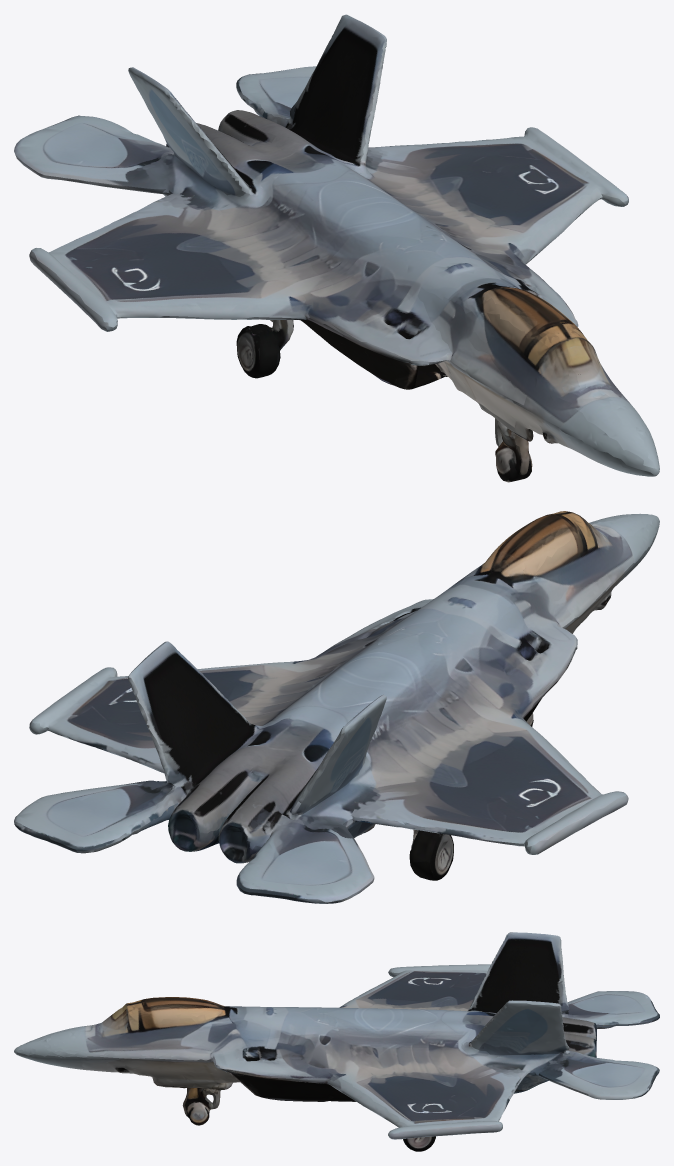
3 views of the same model, one above another, from view 1: azimuth 30°, elevation 25°; view 2: azimuth 150°, elevation 25°; view 3: azimuth 270°, elevation 25° (orthographic). The views are drawn at different scales.
Visible parts, largest first — view 1: textured_mesh; view 2: textured_mesh; view 3: textured_mesh.
Boxes of the visible parts, x1,y1,x2,y2 form: textured_mesh: (14,14,659,482); textured_mesh: (14,511,659,903); textured_mesh: (14,932,659,1151).
Bounding box in the file's own units: 1.22 × 0.5333 × 1.99.
Materials: 1 (1 with a texture image).
